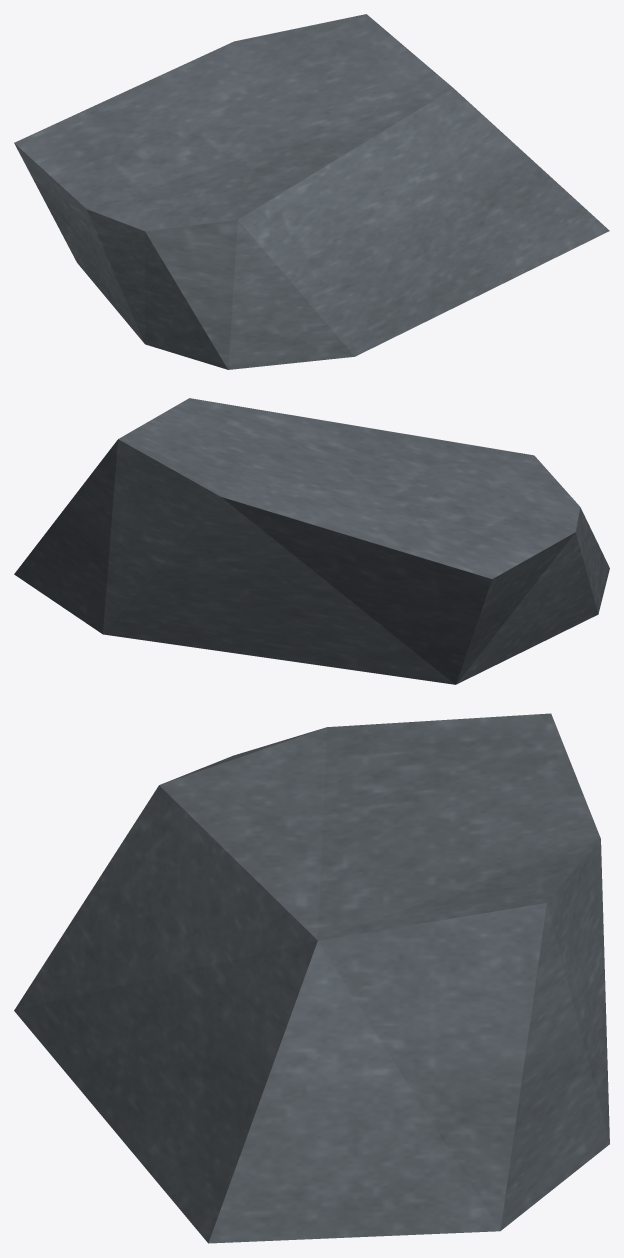
Rendered from outcrop_fault_bench_LOD1.glb.
The picture shows the model from 3 angles, top to bottom: view 1: azimuth 30°, elevation 25°; view 2: azimuth 150°, elevation 25°; view 3: azimuth 270°, elevation 25°; orthographic projection. The views are drawn at different scales.
Parts seen in each view (by area): view 1: outcrop_fault_bench_LOD1; view 2: outcrop_fault_bench_LOD1; view 3: outcrop_fault_bench_LOD1.
Part boxes in pixels (<box>): outcrop_fault_bench_LOD1: <box>14,14,609,369</box>; outcrop_fault_bench_LOD1: <box>14,398,609,684</box>; outcrop_fault_bench_LOD1: <box>14,713,609,1243</box>.
Size of the model in its own units: 2.54 by 0.83 by 1.82.
Materials: 1 (1 with a texture image).
